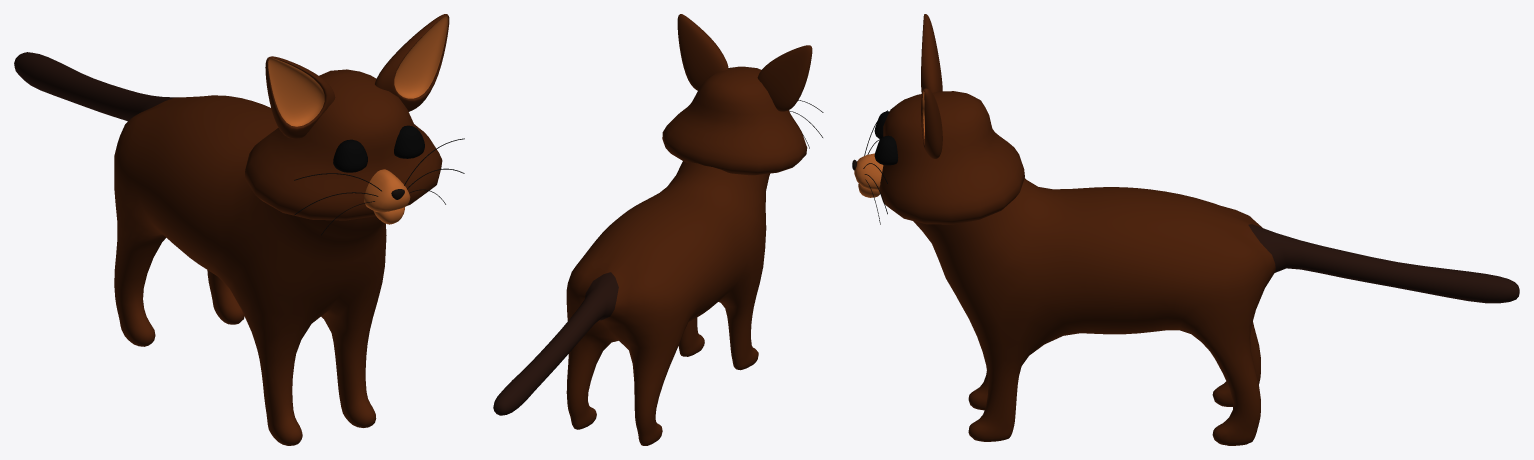
The model's file is Cat.obj.
3 views of the same model, side by side, from view 1: azimuth 30°, elevation 25°; view 2: azimuth 150°, elevation 25°; view 3: azimuth 270°, elevation 25° (orthographic). The views are drawn at different scales.
Visible parts, largest first — view 1: Cat_RetopoFlow.002, Eyes_Cat_RetopoFlow.004; view 2: Cat_RetopoFlow.002; view 3: Cat_RetopoFlow.002, Eyes_Cat_RetopoFlow.004.
Boxes of the visible parts, x1=… form: Cat_RetopoFlow.002: x1=14, y1=14, x2=464, y2=445; Eyes_Cat_RetopoFlow.004: x1=333, y1=125, x2=424, y2=172; Cat_RetopoFlow.002: x1=493, y1=14, x2=823, y2=445; Cat_RetopoFlow.002: x1=852, y1=14, x2=1519, y2=445; Eyes_Cat_RetopoFlow.004: x1=874, y1=111, x2=898, y2=165.
Size of the model in its own units: 1.06 by 2.35 by 3.81.
